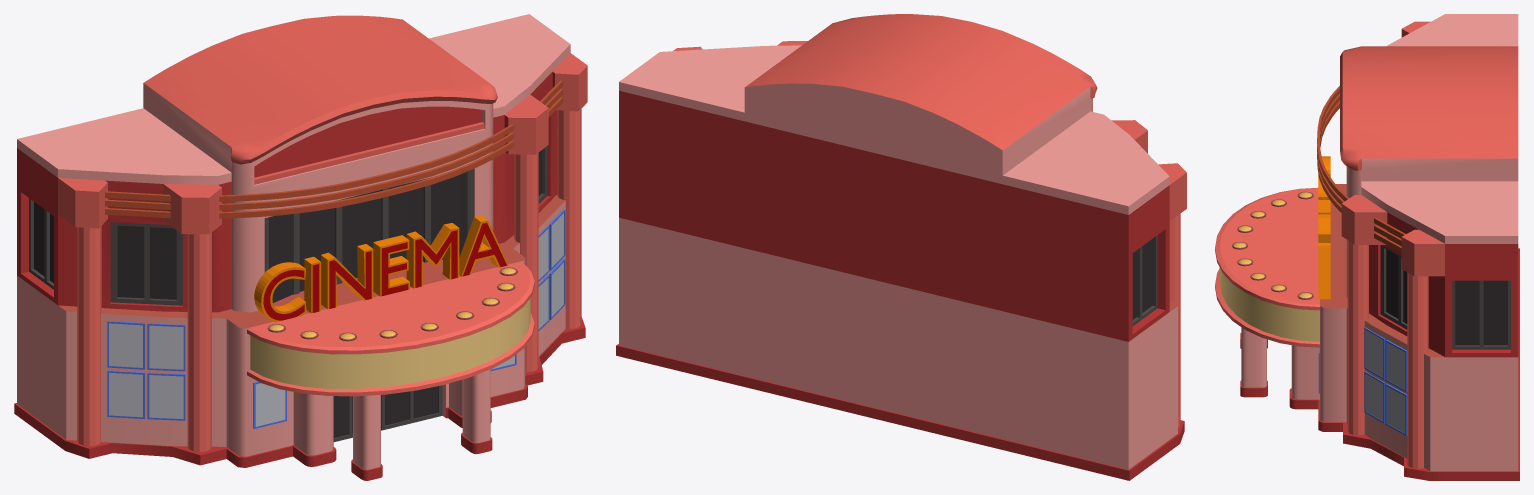
File: cinema.glb
3 renders of one model, left to right at view 1: azimuth 30°, elevation 25°; view 2: azimuth 150°, elevation 25°; view 3: azimuth 270°, elevation 25°, orthographic. The views are drawn at different scales.
Visible parts, largest first — view 1: Cinema; view 2: Cinema; view 3: Cinema.
Part boxes in pixels (<box>): Cinema: <box>14,14,587,480</box>; Cinema: <box>616,14,1186,480</box>; Cinema: <box>1215,14,1519,480</box>.
Size of what is drawn, in the model's own units: 9.23 by 5.57 by 5.32.
Materials: 1 (1 with a texture image).
